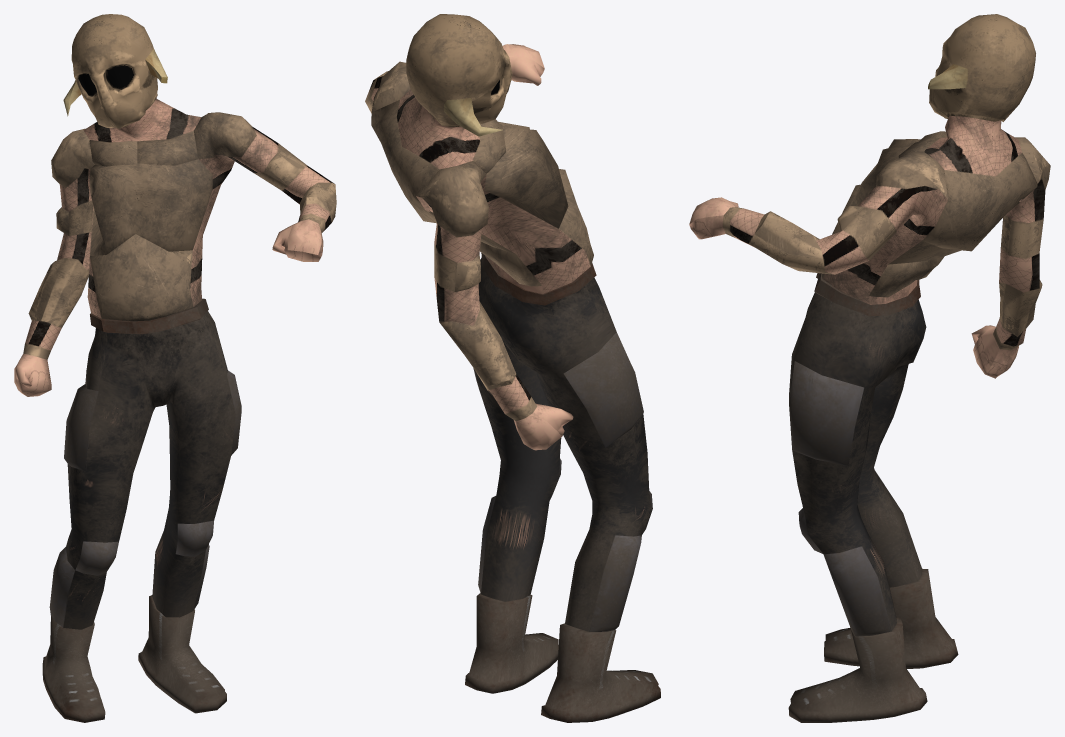
Rendered from Anim_recibirdanyo_npc1.0022.obj.
3 renders of one model, left to right at view 1: azimuth 30°, elevation 25°; view 2: azimuth 150°, elevation 25°; view 3: azimuth 270°, elevation 25°, orthographic. The views are drawn at different scales.
Parts seen in each view (by area): view 1: NPC2; view 2: NPC2; view 3: NPC2.
Part boxes in pixels (x1=…): NPC2: x1=14, y1=14, x2=336, y2=722; NPC2: x1=365, y1=14, x2=660, y2=722; NPC2: x1=689, y1=14, x2=1050, y2=722.
Size of the model in its own units: 3.93 by 8.99 by 4.27.
